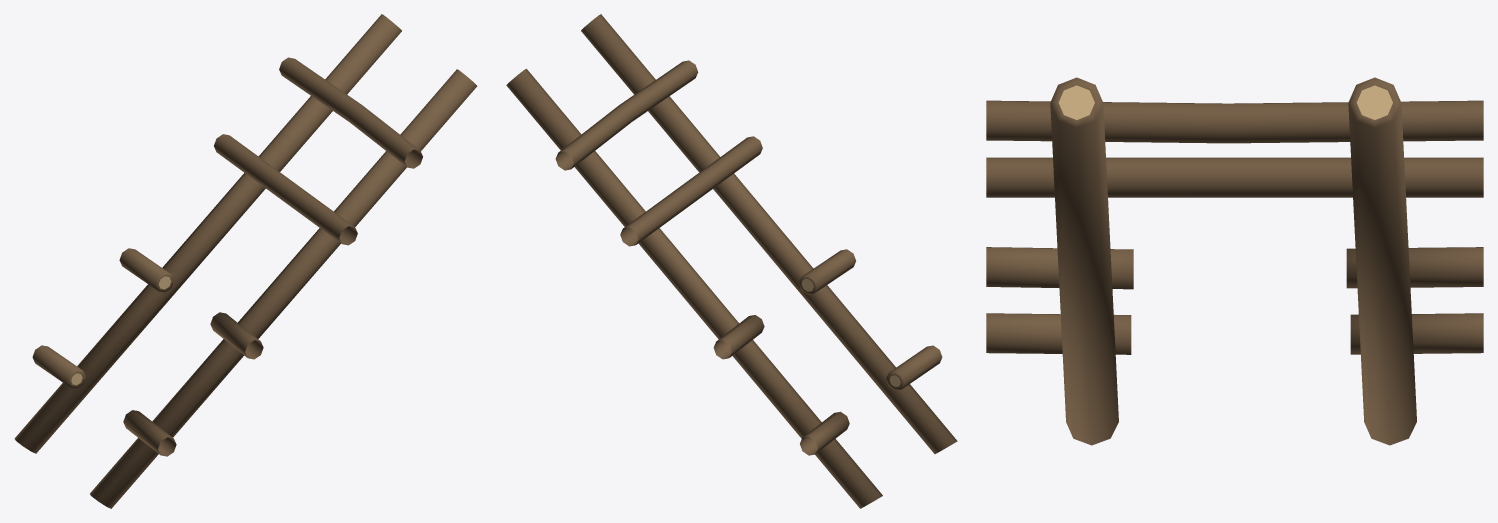
Rendered from rpgpp_ag_roof_support_01_9x4x3_half_a_roof_01e.fbx.
3 renders of one model, left to right at view 1: azimuth 30°, elevation 25°; view 2: azimuth 150°, elevation 25°; view 3: azimuth 270°, elevation 25°, orthographic. The views are drawn at different scales.
Parts seen in each view (by area): view 1: rpgpp_ag_roof_support_01_9x4x3_half_a_roof_01e; view 2: rpgpp_ag_roof_support_01_9x4x3_half_a_roof_01e; view 3: rpgpp_ag_roof_support_01_9x4x3_half_a_roof_01e.
Part boxes in pixels (<box>): rpgpp_ag_roof_support_01_9x4x3_half_a_roof_01e: <box>14,14,477,508</box>; rpgpp_ag_roof_support_01_9x4x3_half_a_roof_01e: <box>506,14,957,508</box>; rpgpp_ag_roof_support_01_9x4x3_half_a_roof_01e: <box>986,77,1483,445</box>.
Bounding box in the file's own units: 5.24 × 4.67 × 3.
